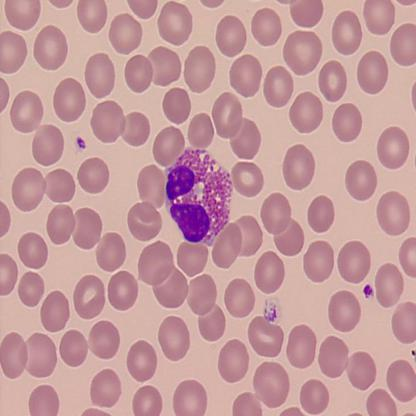Eosinophil: (163, 146, 234, 249)
